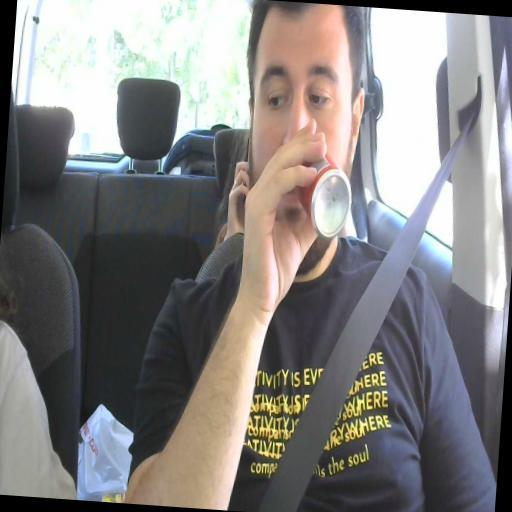Drinking: (244, 11, 366, 248)
